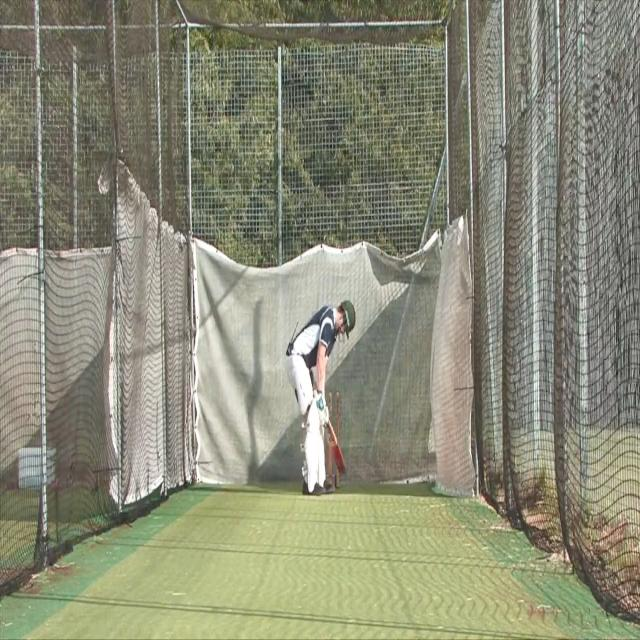batsman: (284, 298, 357, 499)
